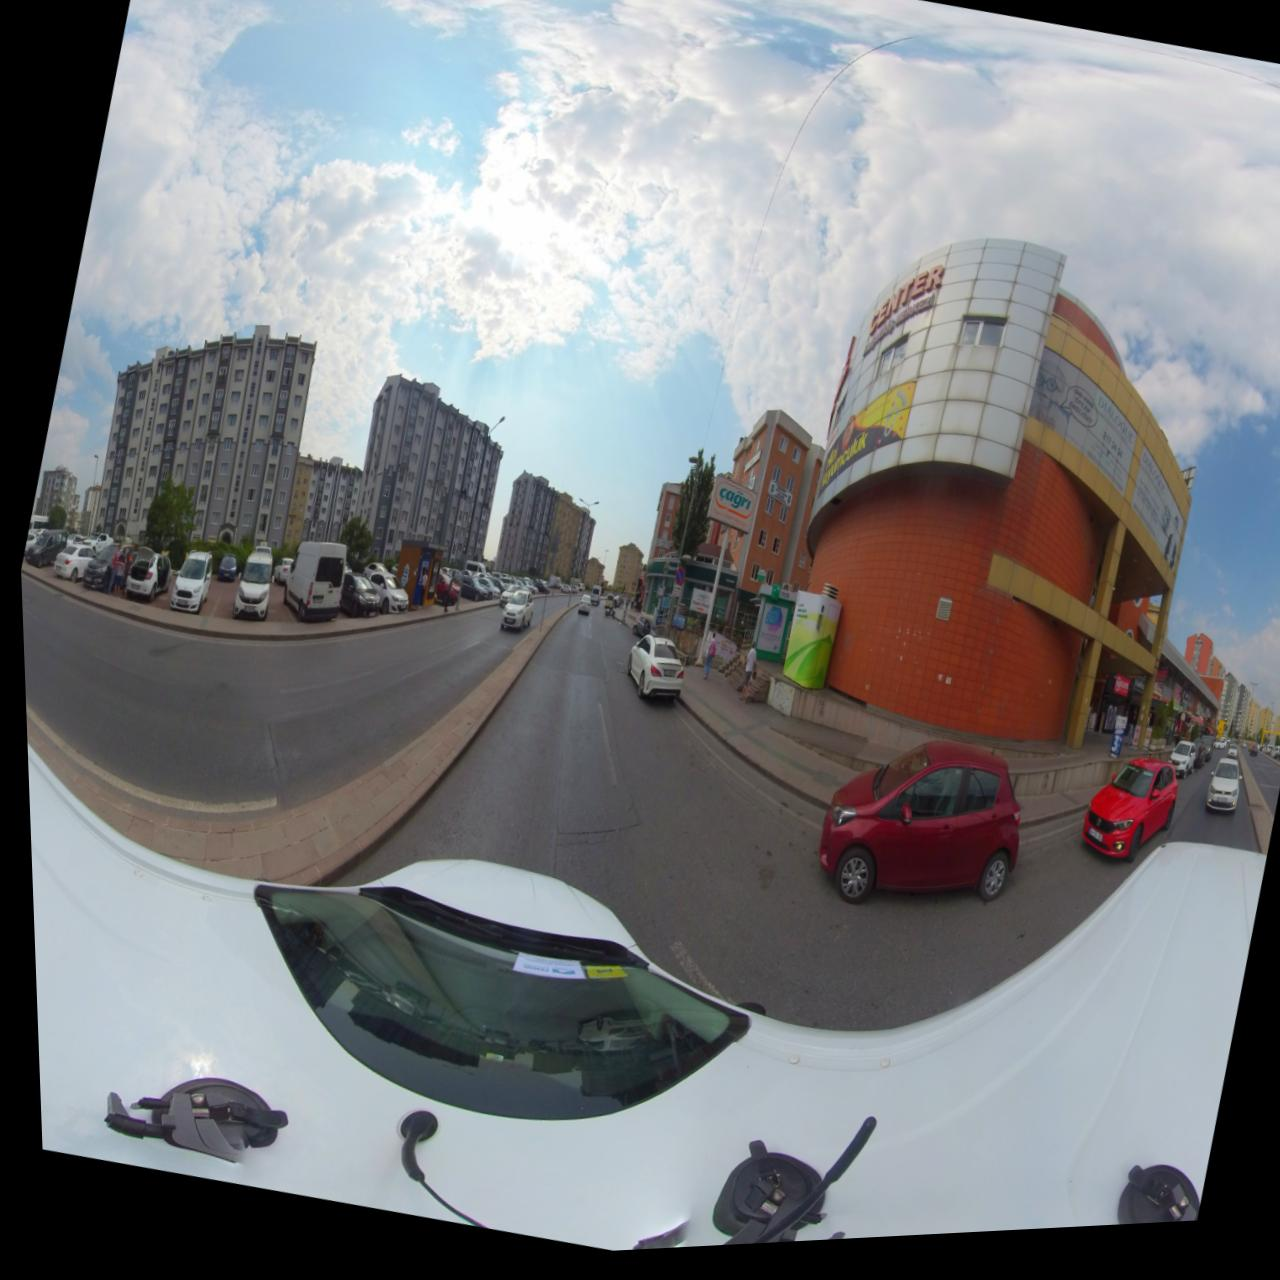SignStore: (1107, 686, 1124, 709), (654, 565, 673, 585), (717, 581, 733, 597), (1128, 688, 1139, 704), (1146, 703, 1156, 713)
